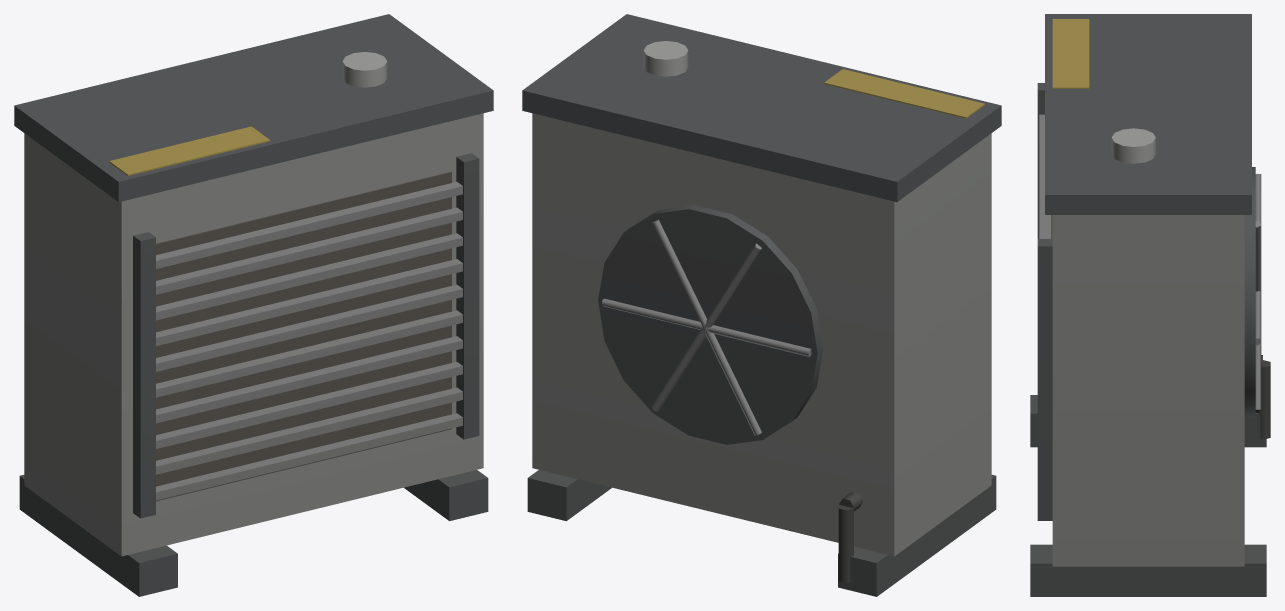
File: heater_steel.glb
3 renders of one model, left to right at view 1: azimuth 30°, elevation 25°; view 2: azimuth 150°, elevation 25°; view 3: azimuth 270°, elevation 25°, orthographic.
Visible parts, largest first — view 1: heater_steel; view 2: heater_steel; view 3: heater_steel.
Boxes of the visible parts, bbox=[...] form: heater_steel: bbox=[14, 14, 493, 596]; heater_steel: bbox=[522, 14, 1001, 596]; heater_steel: bbox=[1030, 14, 1270, 596].
Size of the model in its own units: 0.58 by 0.635 by 0.3254.
